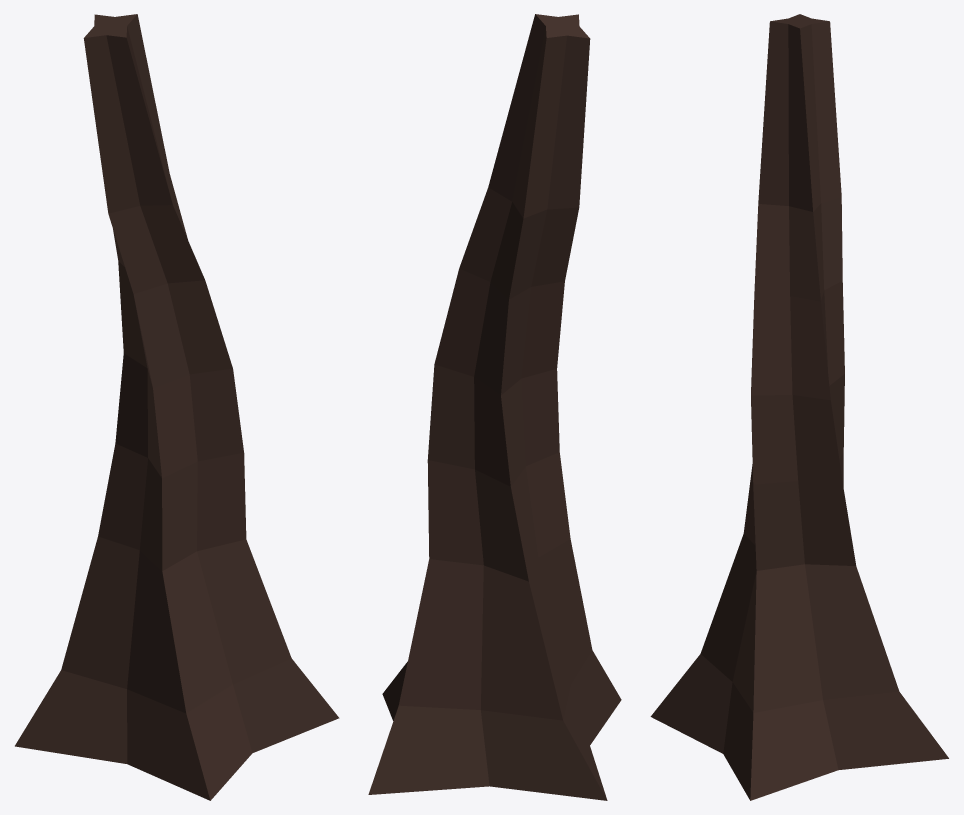
The model's file is Tree01_Trunk.FBX.
The picture shows the model from 3 angles, left to right: view 1: azimuth 30°, elevation 25°; view 2: azimuth 150°, elevation 25°; view 3: azimuth 270°, elevation 25°; orthographic projection. The views are drawn at different scales.
Visible parts, largest first — view 1: Tree01_Trunk; view 2: Tree01_Trunk; view 3: Tree01_Trunk.
Part boxes in pixels (x1,y1,x2,y2): Tree01_Trunk: (15,14,339,800); Tree01_Trunk: (368,14,621,800); Tree01_Trunk: (650,14,948,800).
Bounding box in the file's own units: 130 × 331 × 130.
1 material, 1 textured.
